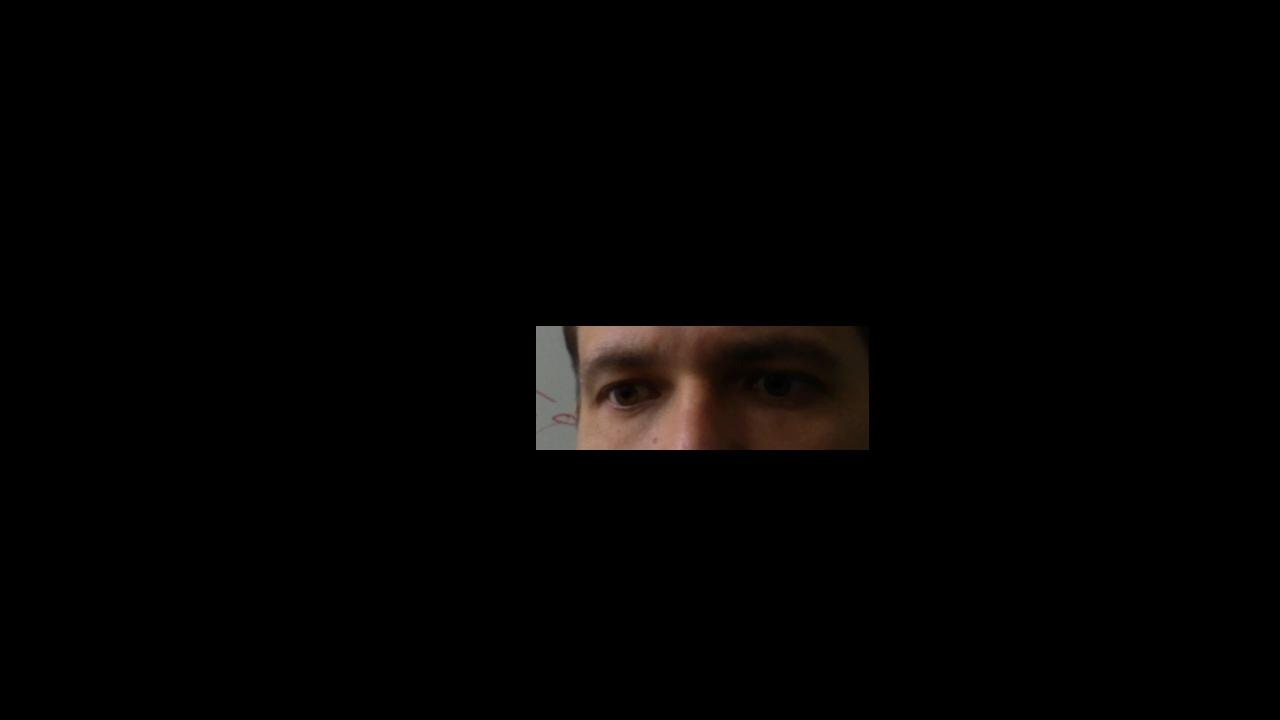eye: (761, 374, 792, 394), (613, 382, 638, 405)
